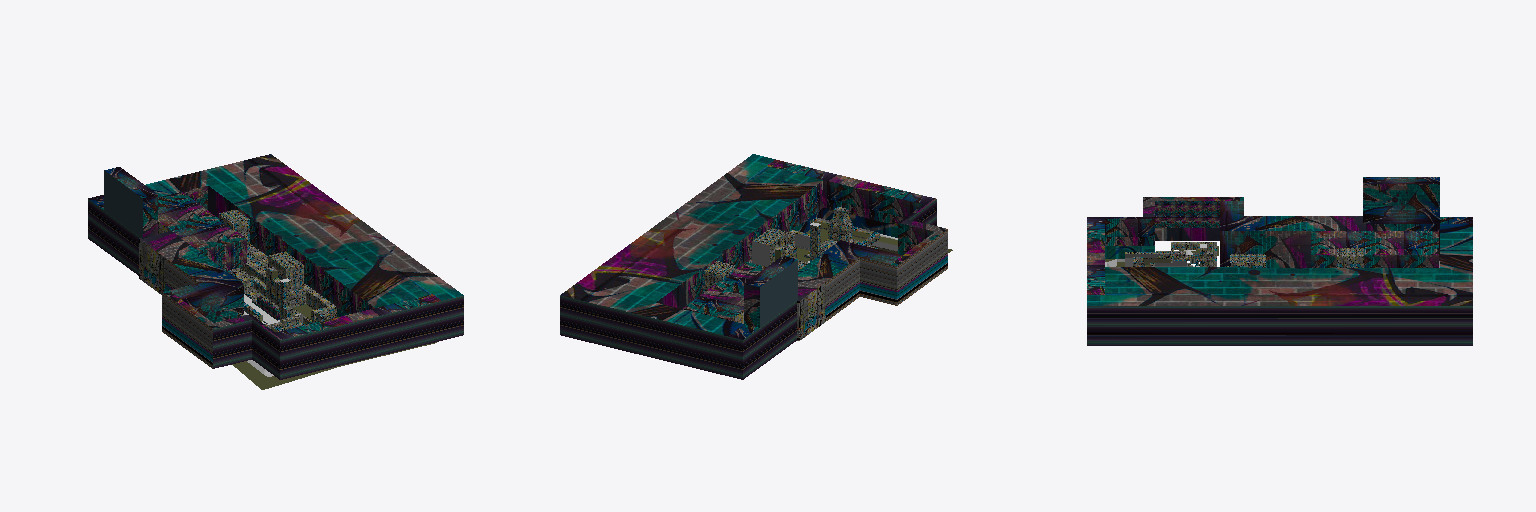
3 views of the same model, side by side, from view 1: azimuth 30°, elevation 25°; view 2: azimuth 150°, elevation 25°; view 3: azimuth 270°, elevation 25° (orthographic).
Visible parts, largest first — view 1: Cube.008, Cube.009; view 2: Cube.008, Cube.009; view 3: Cube.008, Cube.009.
Boxes of the visible parts, x1,y1,x2,y2 form: Cube.008: [88, 154, 463, 389]; Cube.009: [219, 210, 336, 328]; Cube.008: [560, 154, 952, 379]; Cube.009: [703, 228, 877, 292]; Cube.008: [1087, 177, 1472, 345]; Cube.009: [1150, 248, 1363, 267].
Size of the model in its own units: 13429 by 5121 by 20154.
Materials: 5 (2 with a texture image).